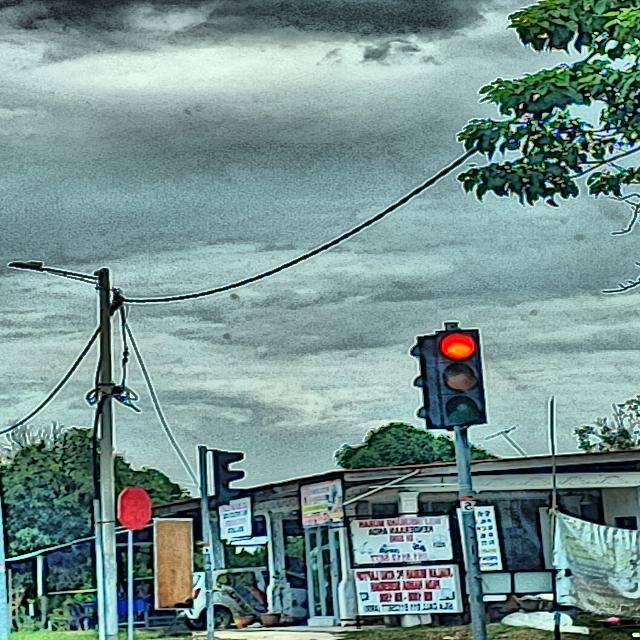red: (434, 331, 490, 424)
